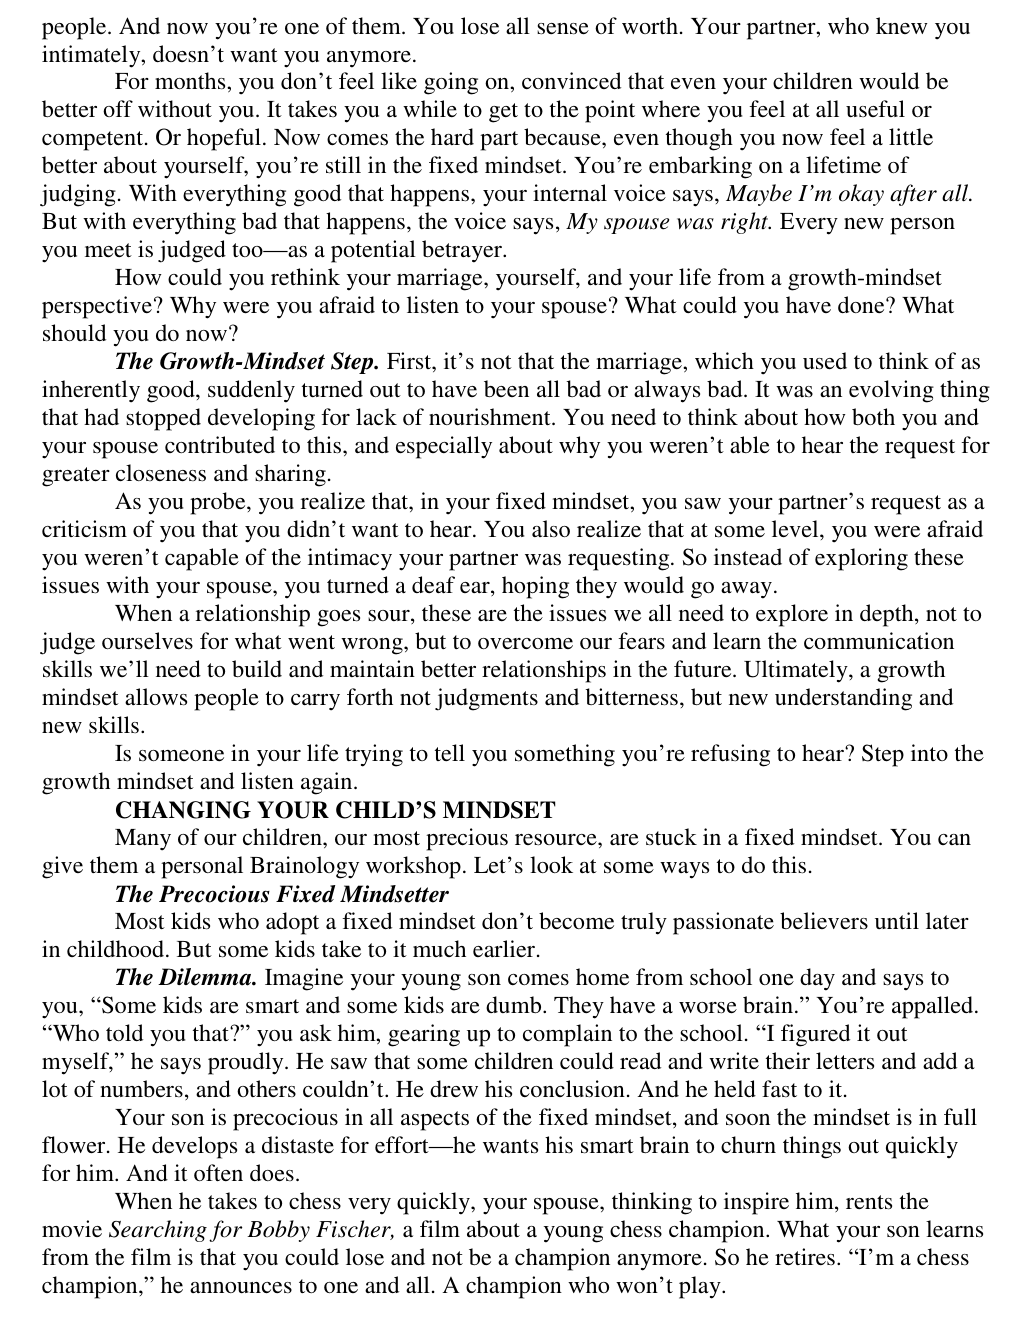latin: (39, 14, 973, 353), (37, 819, 986, 1103), (31, 1103, 990, 1305), (33, 602, 992, 794), (33, 351, 994, 485), (25, 485, 992, 602), (109, 796, 559, 821)
